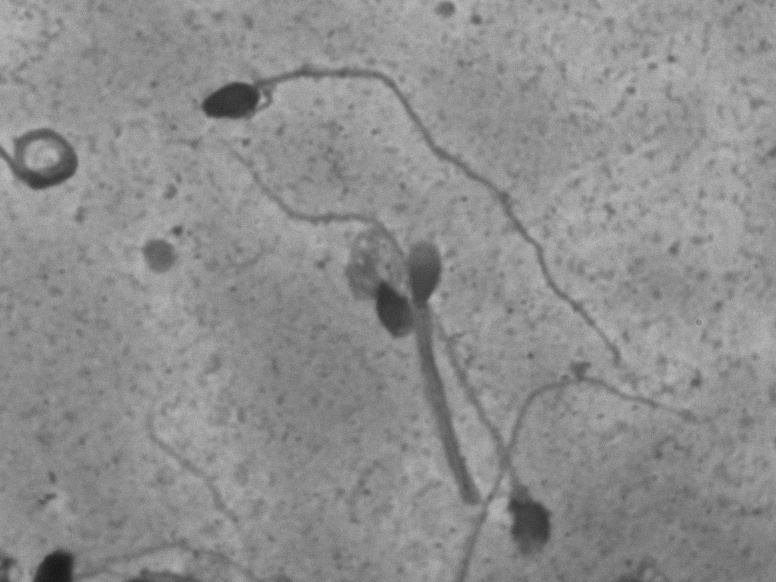Abnormal: (302, 222, 492, 525), (168, 44, 500, 198)
